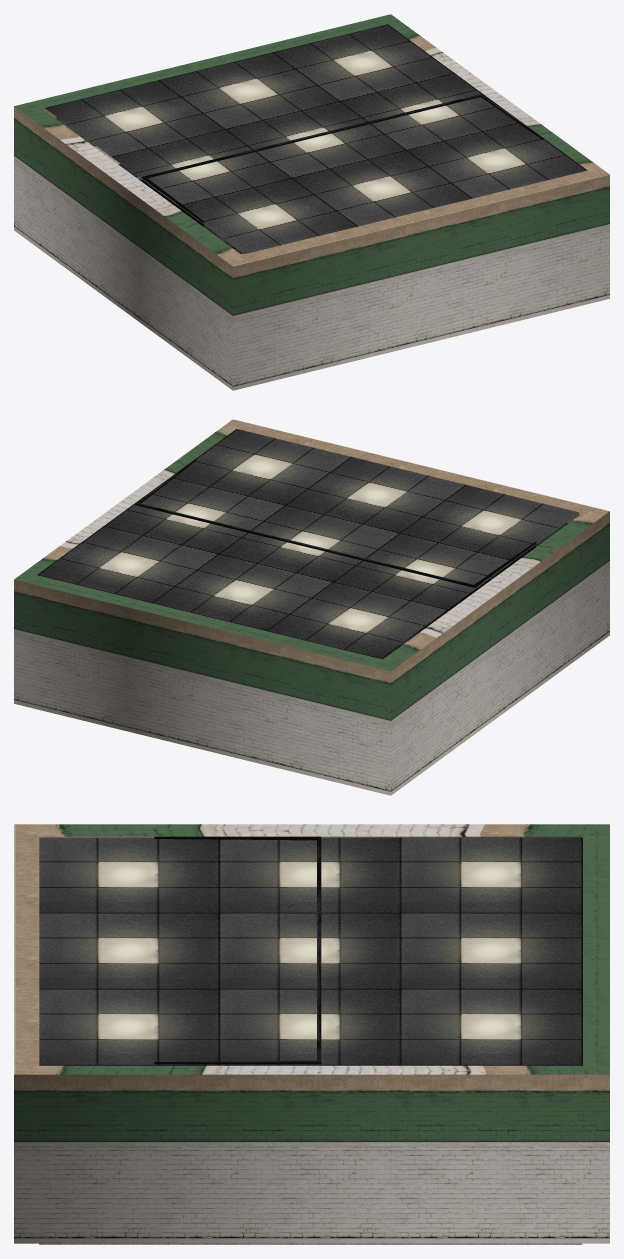
Rendered from Conference.glb.
3 renders of one model, top to bottom at view 1: azimuth 30°, elevation 25°; view 2: azimuth 150°, elevation 25°; view 3: azimuth 270°, elevation 25°, orthographic. The views are drawn at different scales.
Parts seen in each view (by area): view 1: Conference; view 2: Conference; view 3: Conference.
Part boxes in pixels (x1,y1,x2,y2): Conference: (14, 14, 609, 390); Conference: (14, 419, 609, 795); Conference: (14, 824, 609, 1244).
Bounding box in the file's own units: 121 × 40.66 × 122.
15 materials, 15 textured.
